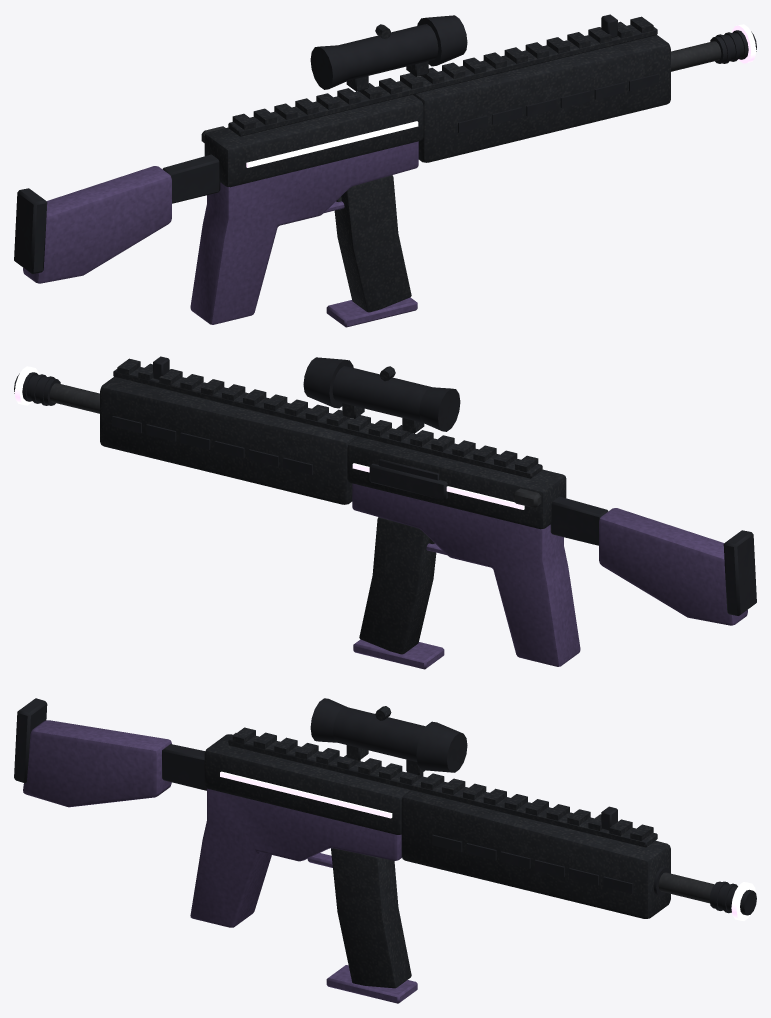
The model's file is rifle_r3.fbx.
The picture shows the model from 3 angles, top to bottom: view 1: azimuth 30°, elevation 25°; view 2: azimuth 150°, elevation 25°; view 3: azimuth 330°, elevation 25°; orthographic projection.
Visible parts, largest first — view 1: Body, Magazine, Glow; view 2: Body, Magazine, Bolt, Glow; view 3: Body, Magazine, Glow.
Part boxes in pixels (x1,y1,x2,y2): Body: [14, 14, 756, 324]; Magazine: [326, 175, 417, 327]; Glow: [246, 24, 756, 167]; Body: [14, 356, 756, 666]; Magazine: [353, 517, 444, 669]; Bolt: [369, 459, 541, 508]; Glow: [14, 366, 524, 509]; Body: [14, 698, 756, 927]; Magazine: [326, 848, 417, 1003]; Glow: [220, 771, 755, 920].
Size of the model in its own units: 8.53 by 3.17 by 0.6275.
Materials: 2 (1 with a texture image).
